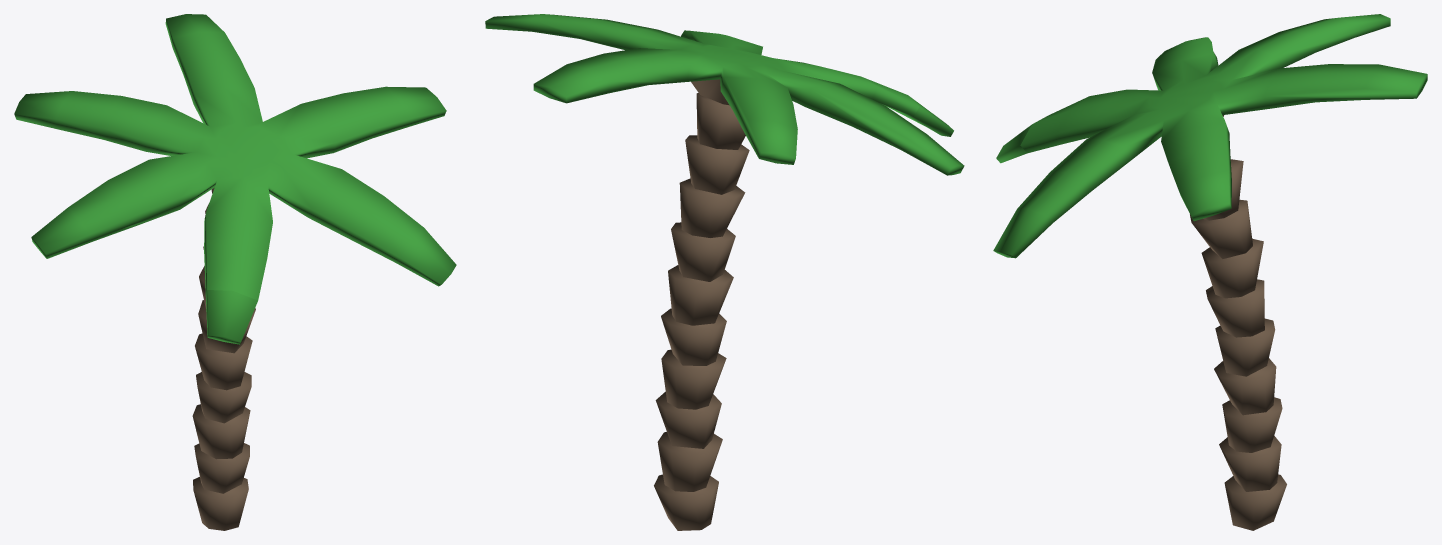
File: PalmTree.fbx
The picture shows the model from 3 angles, left to right: view 1: azimuth 30°, elevation 25°; view 2: azimuth 150°, elevation 25°; view 3: azimuth 270°, elevation 25°; orthographic projection. The views are drawn at different scales.
Visible parts, largest first — view 1: Palm; view 2: Palm; view 3: Palm.
Boxes of the visible parts, left/top/right/bottom form: Palm: left=14, top=14, right=456, bottom=530; Palm: left=485, top=14, right=964, bottom=530; Palm: left=993, top=14, right=1427, bottom=530.
Size of the model in its own units: 1216 by 1251 by 1058.
